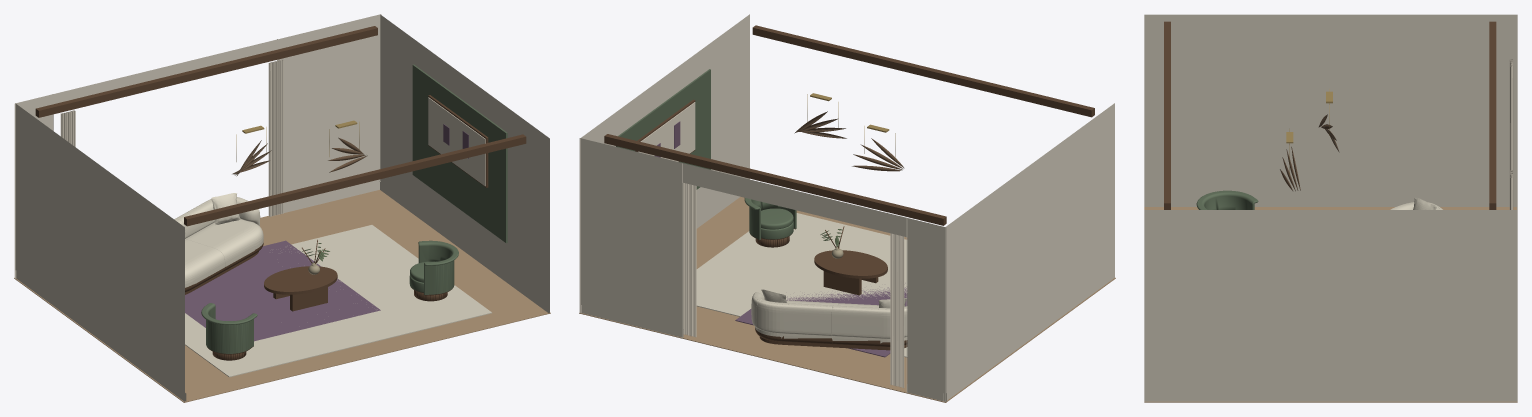
The model's file is great-2.glb.
The picture shows the model from 3 angles, left to right: view 1: azimuth 30°, elevation 25°; view 2: azimuth 150°, elevation 25°; view 3: azimuth 270°, elevation 25°; orthographic projection. The views are drawn at different scales.
Parts seen in each view (by area): view 1: DESIGN | great removable wall finish, DESIGN | great floor finish, DESIGN | Great room primary ground, DESIGN | Secondary occupied textile field, DESIGN | Garden salon fabric wall field, DESIGN | Great room sofa facing conversation, DESIGN | Garden salon perimeter timber, DESIGN | Garden salon perimeter timber.001, DESIGN | Required Bellustar swivel chair one, DESIGN | Great room soft window edge.001, DESIGN | Textile artwork.002, DESIGN | Required Bellustar swivel chair two (+4 smaller); view 2: DESIGN | great removable wall finish, DESIGN | Great room primary ground, DESIGN | great floor finish, DESIGN | Great room sofa facing conversation, DESIGN | Garden salon perimeter timber.001, DESIGN | Garden salon perimeter timber, DESIGN | Garden salon fabric wall field, DESIGN | Great room soft window edge, DESIGN | Great room soft window edge.001, DESIGN | Required Bellustar swivel chair one, DESIGN | Great room conversation table top, DESIGN | Textile artwork.002 (+4 smaller); view 3: DESIGN | great removable wall finish, DESIGN | Garden salon perimeter timber.001, DESIGN | great floor finish, DESIGN | Garden salon perimeter timber, DESIGN | Required Bellustar swivel chair two, DESIGN | Great room soft window edge, DESIGN | Great room sofa facing conversation, DESIGN | Required Flou pendant 2.
Boxes of the visible parts, x1,y1,x2,y2 form: DESIGN | great removable wall finish: (14, 14, 549, 401); DESIGN | great floor finish: (14, 190, 550, 402); DESIGN | Great room primary ground: (185, 225, 491, 377); DESIGN | Secondary occupied textile field: (185, 240, 380, 341); DESIGN | Garden salon fabric wall field: (412, 64, 507, 243); DESIGN | Great room sofa facing conversation: (174, 193, 263, 294); DESIGN | Garden salon perimeter timber: (184, 134, 526, 226); DESIGN | Garden salon perimeter timber.001: (35, 26, 377, 117); DESIGN | Required Bellustar swivel chair one: (409, 240, 458, 301); DESIGN | Great room soft window edge.001: (268, 59, 283, 216); DESIGN | Textile artwork.002: (428, 97, 485, 186); DESIGN | Required Bellustar swivel chair two: (201, 303, 257, 360); DESIGN | great removable wall finish: (579, 14, 1114, 401); DESIGN | Great room primary ground: (696, 213, 907, 357); DESIGN | great floor finish: (579, 196, 1115, 402); DESIGN | Great room sofa facing conversation: (751, 289, 907, 350); DESIGN | Garden salon perimeter timber.001: (604, 134, 946, 225); DESIGN | Garden salon perimeter timber: (752, 25, 1094, 117); DESIGN | Garden salon fabric wall field: (616, 69, 710, 189); DESIGN | Great room soft window edge: (890, 233, 904, 387); DESIGN | Great room soft window edge.001: (683, 182, 696, 337); DESIGN | Required Bellustar swivel chair one: (744, 198, 796, 247); DESIGN | Great room conversation table top: (814, 250, 887, 278); DESIGN | Textile artwork.002: (638, 102, 695, 161); DESIGN | great removable wall finish: (1144, 14, 1517, 401); DESIGN | Garden salon perimeter timber.001: (1489, 21, 1496, 209); DESIGN | great floor finish: (1144, 207, 1517, 402); DESIGN | Garden salon perimeter timber: (1164, 21, 1170, 209); DESIGN | Required Bellustar swivel chair two: (1196, 190, 1258, 209); DESIGN | Great room soft window edge: (1509, 59, 1513, 170); DESIGN | Great room sofa facing conversation: (1390, 197, 1442, 209); DESIGN | Required Flou pendant 2: (1280, 146, 1300, 191).
Size of the model in its own units: 6 by 2.74 by 4.82.
